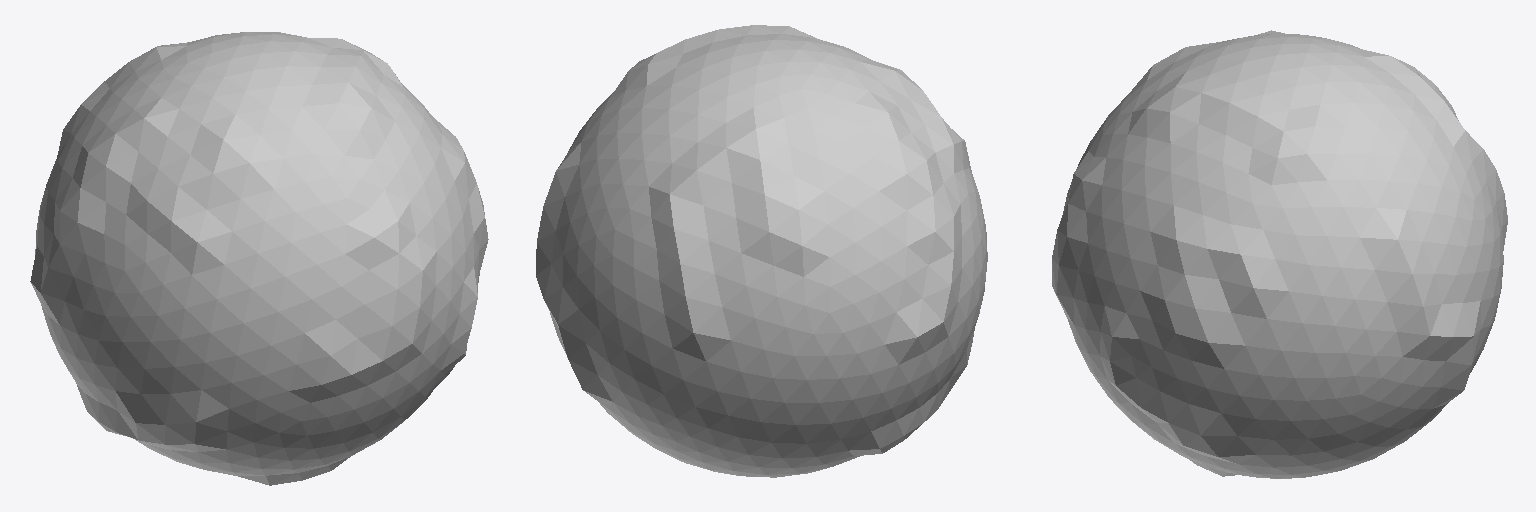
File: Solari.obj
3 views of the same model, side by side, from view 1: azimuth 30°, elevation 25°; view 2: azimuth 150°, elevation 25°; view 3: azimuth 270°, elevation 25° (orthographic).
Visible parts, largest first — view 1: Icosphere.006_Icosphere.014; view 2: Icosphere.006_Icosphere.014; view 3: Icosphere.006_Icosphere.014.
Boxes of the visible parts, box(x1,y1,x2,y2) form: Icosphere.006_Icosphere.014: box(30, 32, 488, 485); Icosphere.006_Icosphere.014: box(536, 25, 987, 477); Icosphere.006_Icosphere.014: box(1052, 30, 1507, 478).
Bounding box in the file's own units: 248 × 246 × 251.